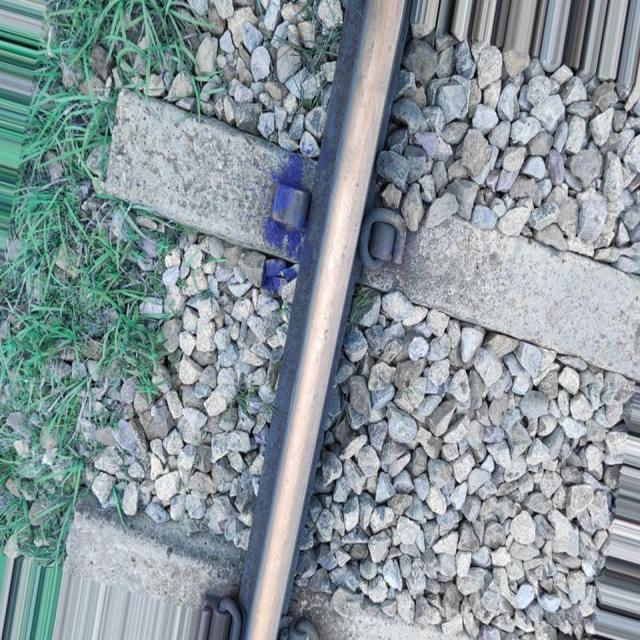Good Fasteners: (359, 207, 409, 292), (198, 594, 241, 639)
Missing Fastener: (263, 153, 315, 260)
